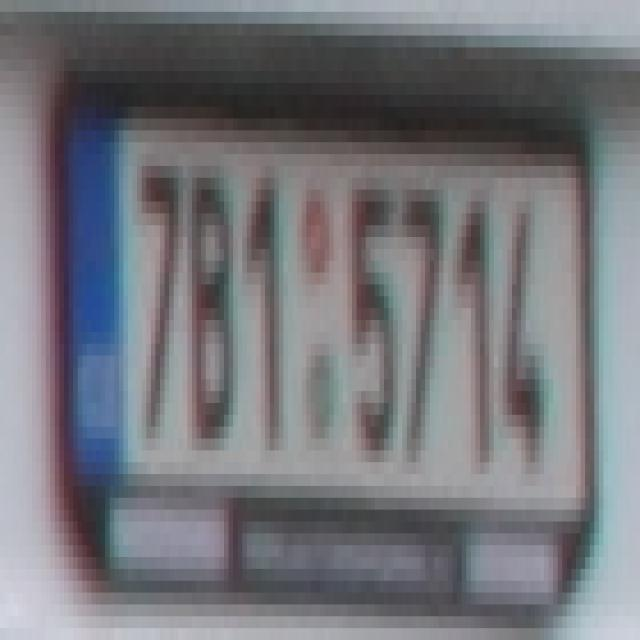1: (452, 202, 503, 462), (242, 154, 284, 427)
4: (503, 202, 548, 474)
5: (347, 166, 407, 462)
7: (393, 190, 444, 474), (137, 154, 178, 439)
B: (183, 166, 238, 462)
